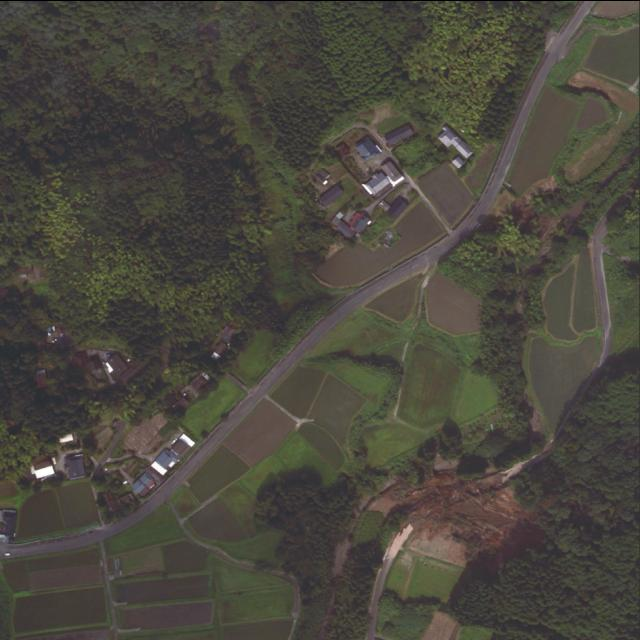landslide: (403, 470, 539, 575)
